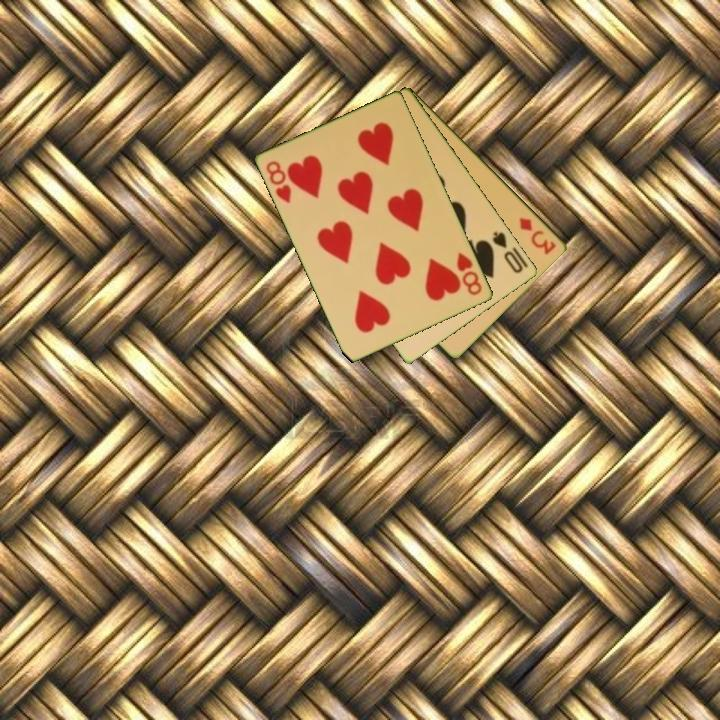10s: (489, 228, 526, 276)
3d: (516, 214, 559, 257)
8h: (453, 249, 485, 298), (263, 157, 295, 206)
